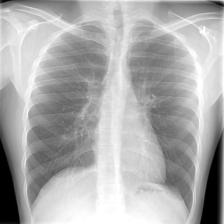normal: (21, 12, 203, 224)
